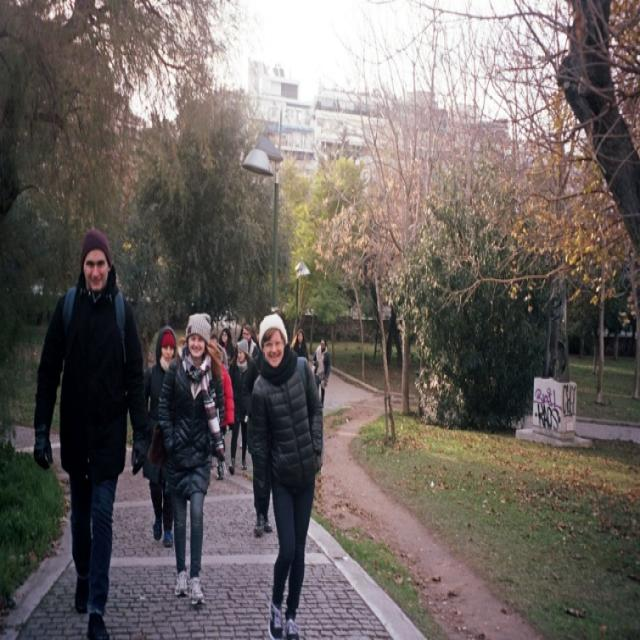body: (30, 225, 155, 639), (242, 308, 326, 638), (154, 308, 228, 610), (129, 322, 179, 548), (226, 336, 260, 474), (216, 358, 237, 482), (312, 336, 331, 409), (217, 327, 238, 372), (207, 333, 228, 371), (241, 323, 261, 362), (289, 328, 309, 362), (175, 332, 187, 358), (252, 315, 262, 345)
